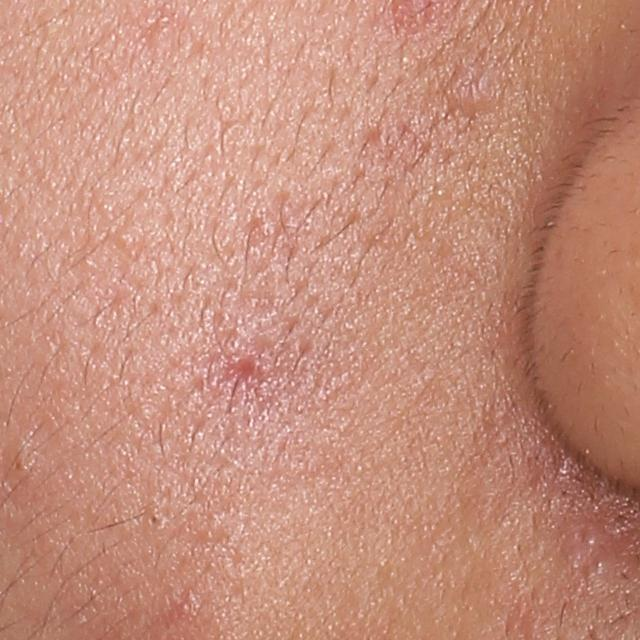comedo: (433, 69, 499, 119), (7, 445, 35, 475), (142, 507, 164, 531)
